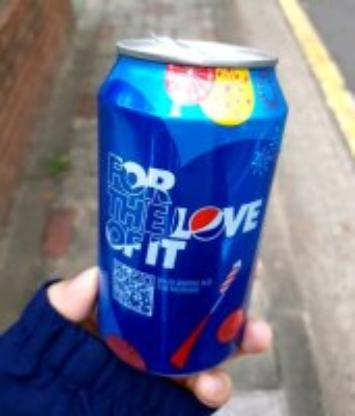Can: (94, 36, 292, 380)
